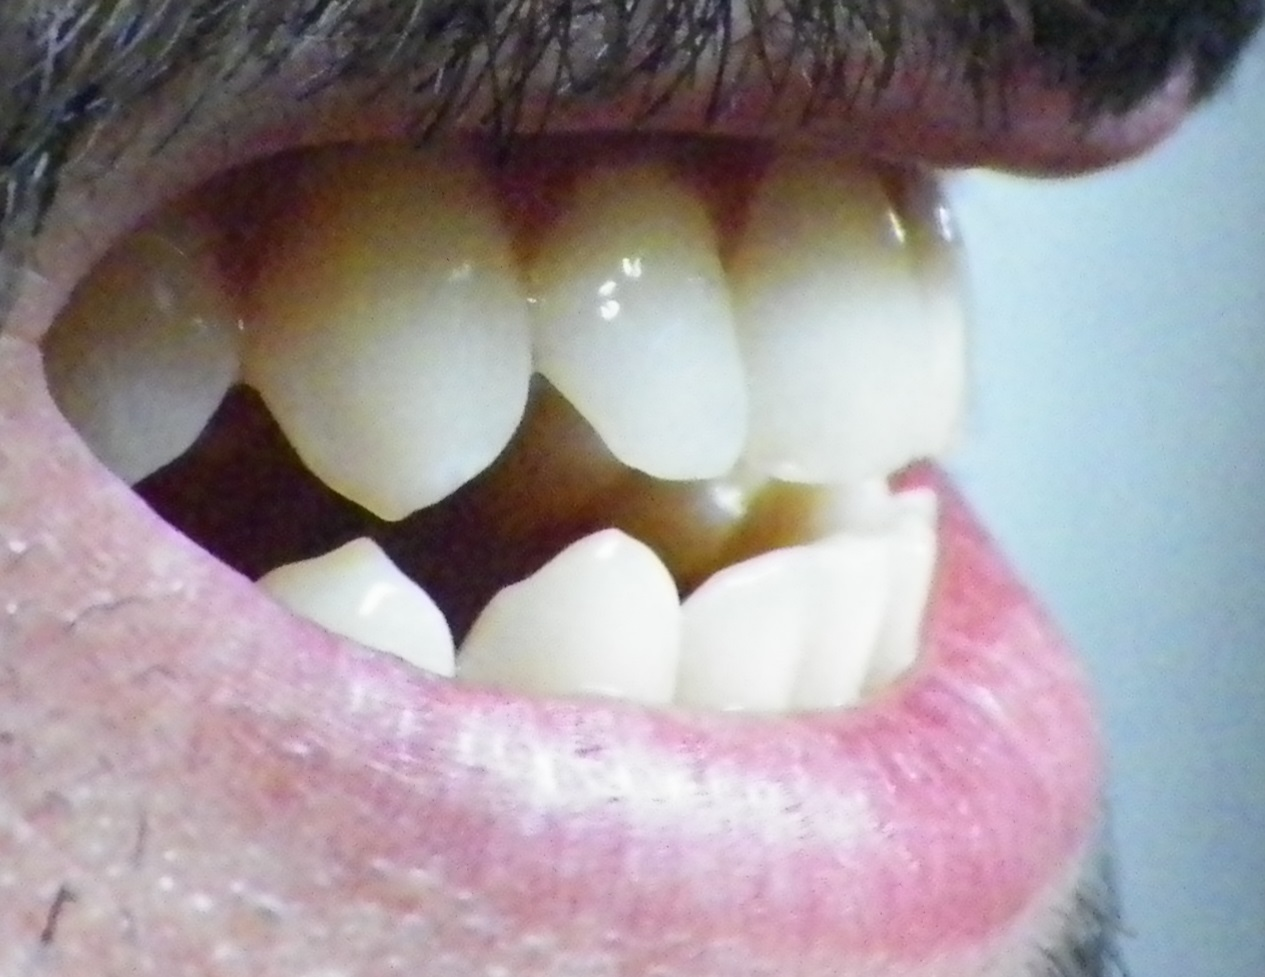boca: (75, 153, 993, 701)
